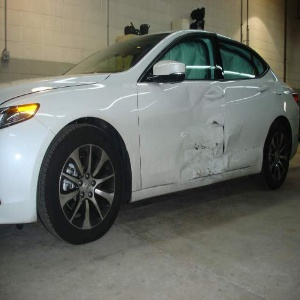door: (158, 103, 258, 179)
